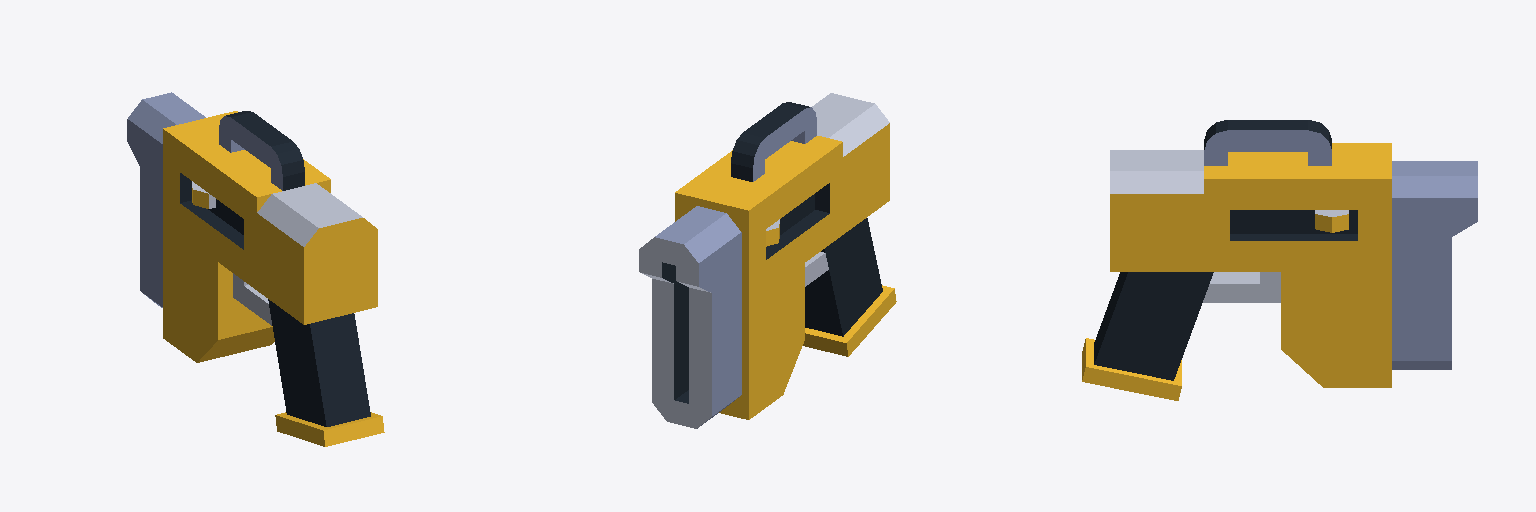
The model's file is blasterK.obj.
The picture shows the model from 3 angles: view 1: azimuth 30°, elevation 25°; view 2: azimuth 150°, elevation 25°; view 3: azimuth 270°, elevation 25°; orthographic projection.
Visible parts, largest first — view 1: blasterK; view 2: blasterK; view 3: blasterK.
Part boxes in pixels (x1,y1,x2,y2): blasterK: (127, 92, 384, 446); blasterK: (639, 93, 896, 428); blasterK: (1082, 120, 1477, 400).
Bounding box in the file's own units: 0.1 × 0.3376 × 0.4622.